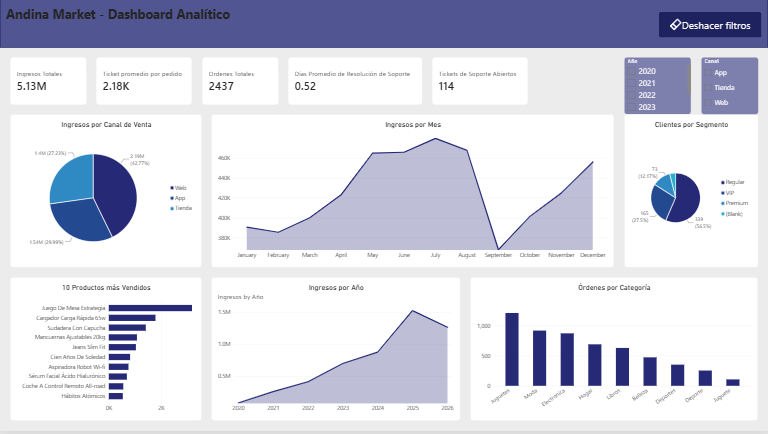

The page's visual inventory and layout, read from the dashboard file:
{"tool":"powerbi","page":{"name":"Page 1","canvas":[1920,1080],"ordinal":0},"visuals":[{"type":"cardVisual","fields":{"Data":["Sum(fact_orders.TotalAmount)"]},"box":[16,144,191.4,111.4],"z":0},{"type":"cardVisual","fields":{"Data":["Avg(fact_orders.TotalAmount)"]},"box":[240,144,191.4,111.4],"z":1000},{"type":"cardVisual","title":"Tiempo Promedio de Resolución de Soporte","fields":{"Data":["Avg(fact_support_tickets.DaysToUpdate)"]},"box":[464,144,191.4,111.4],"z":2000},{"type":"pieChart","title":"Ingresos por Canal de Venta","fields":{"Category":["fact_orders.Channel"],"Y":["Sum(fact_orders.TotalAmount)"]},"box":[16,384,496,320],"z":3000},{"type":"areaChart","title":"Ingresos por Mes","fields":{"Category":["dim_date.FullDate.Variation.Jerarquía de fechas.Mes"],"Y":["Sum(fact_orders.TotalAmount)"]},"box":[528,384,624,312],"z":4000},{"type":"slicer","fields":{"Values":["dim_date.FullDate.Variation.Jerarquía de fechas.Año"]},"box":[16,272,96,96],"z":5000},{"type":"areaChart","title":"Ingresos por Año","fields":{"Category":["dim_date.FullDate.Variation.Jerarquía de fechas.Año"],"Y":["Sum(fact_orders.TotalAmount)"]},"box":[528,704,624,352],"z":6000},{"type":"barChart","title":"10 Productos más Vendidos","fields":{"Category":["dim_product.ProductName"],"Y":["Sum(fact_order_items.Quantity)"]},"box":[16,720,496,336],"z":7000},{"type":"columnChart","title":"Clientes por País","fields":{"Category":["dim_customer.Country"],"Y":["dim_customer.Customers (Filtrado)"]},"box":[1168,384,400,304],"z":8000},{"type":"pieChart","title":"Clientes por Segmento","fields":{"Category":["dim_customer.Segment"],"Y":["CountNonNull(dim_customer.CustomerID)"]},"box":[1584,384,320,304],"z":9000},{"type":"cardVisual","title":"Tiempo Promedio de Resolución de Soporte","fields":{"Data":["Count(fact_orders.OrderID)"]},"box":[688,144,191.4,111.4],"z":10000},{"type":"shape","box":[0,0,1920,121.7],"z":11000},{"type":"slicer","fields":{"Values":["fact_orders.Channel"]},"box":[128,272,144,96],"z":12000},{"type":"textbox","box":[16,16,572.9,88.6],"z":13000},{"type":"columnChart","title":"Órdenes por Categoría","fields":{"Category":["dim_product.Category"],"Y":["Count(fact_orders.OrderID)"]},"box":[1168,704,736,352],"z":14000},{"type":"actionButton","box":[1648,32,256,64],"z":15000},{"type":"cardVisual","title":"Tiempo Promedio de Resolución de Soporte","fields":{"Data":["CountNonNull(fact_support_tickets.TicketID)"]},"box":[912,144,240,112],"z":16000}]}

Visuals, with their boxes in screenshot pixels (x1, y1, x2, y2), scaled from the page's 1920x1080 canvas onto the 768x434 screenshot:
cardVisual - Sum(fact_orders.TotalAmount): [6, 58, 83, 103]
cardVisual - Avg(fact_orders.TotalAmount): [96, 58, 173, 103]
"Tiempo Promedio de Resolución de Soporte" cardVisual: [186, 58, 262, 103]
"Ingresos por Canal de Venta" pieChart: [6, 154, 205, 283]
"Ingresos por Mes" areaChart: [211, 154, 461, 280]
slicer - dim_date.FullDate.Variation.Jerarquía de fechas.Año: [6, 109, 45, 148]
"Ingresos por Año" areaChart: [211, 283, 461, 424]
"10 Productos más Vendidos" barChart: [6, 289, 205, 424]
"Clientes por País" columnChart: [467, 154, 627, 276]
"Clientes por Segmento" pieChart: [634, 154, 762, 276]
"Tiempo Promedio de Resolución de Soporte" cardVisual: [275, 58, 352, 103]
shape: [0, 0, 767, 49]
slicer - fact_orders.Channel: [51, 109, 109, 148]
textbox: [6, 6, 236, 42]
"Órdenes por Categoría" columnChart: [467, 283, 762, 424]
actionButton: [659, 13, 762, 39]
"Tiempo Promedio de Resolución de Soporte" cardVisual: [365, 58, 461, 103]
